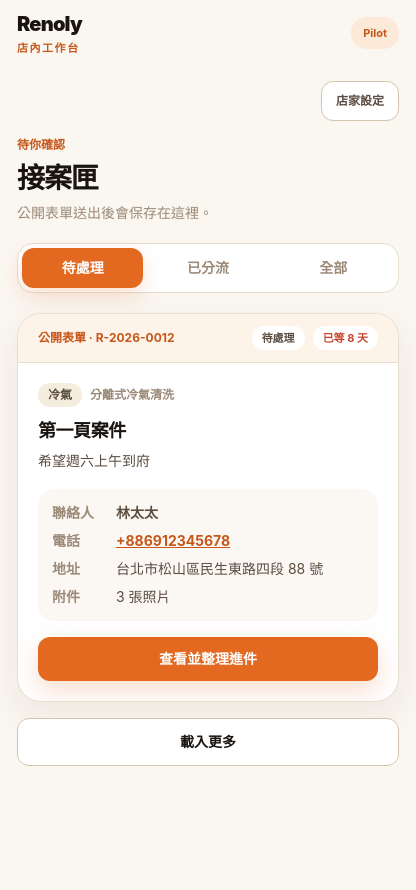
Test: PilotInbox › loads more using the returned cursor and appends the next page
Check: the heading "第一頁案件" is shown, box [38,420,126,441]
Click the button "載入更多" at (208, 742), box [17,718,399,766]
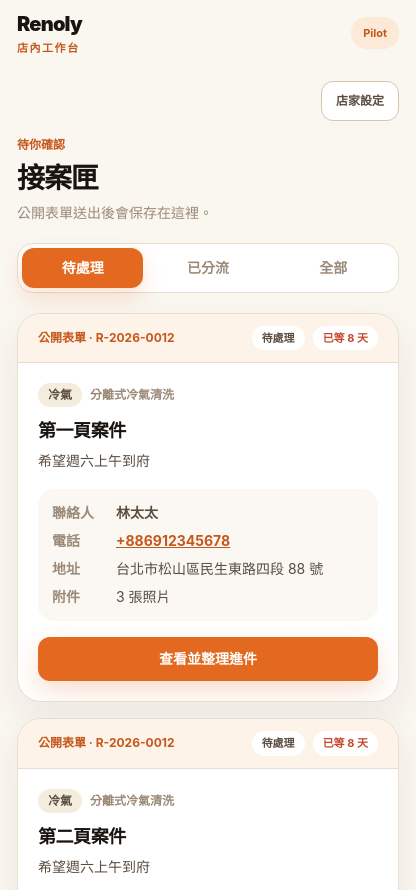
Check: the heading "第一頁案件" is shown, box [38,420,126,441]
Check: the heading "第二頁案件" is shown, box [38,826,126,846]
Check: the button "載入更多" is gone
